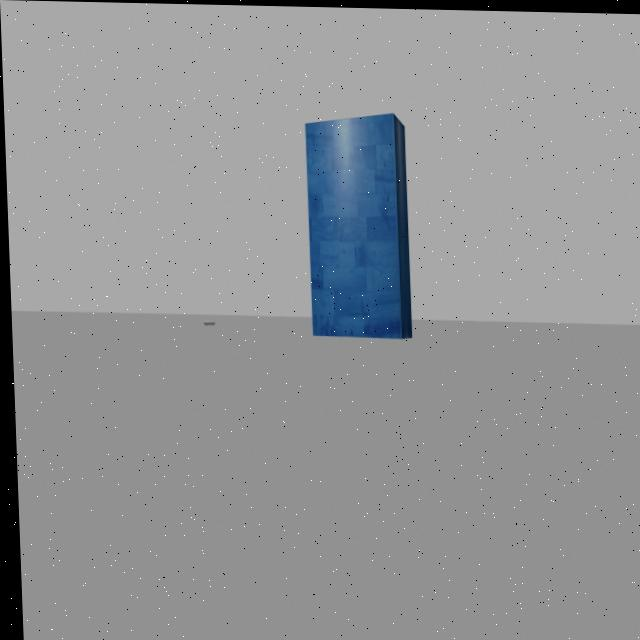bowl: (200, 313, 215, 334)
shelf: (297, 105, 423, 348)
